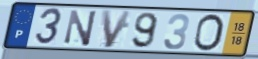3: (32, 7, 63, 48), (163, 13, 191, 51)
9: (131, 11, 160, 50)
N: (63, 9, 99, 48)
O: (192, 13, 226, 53)
V: (100, 9, 135, 50)
